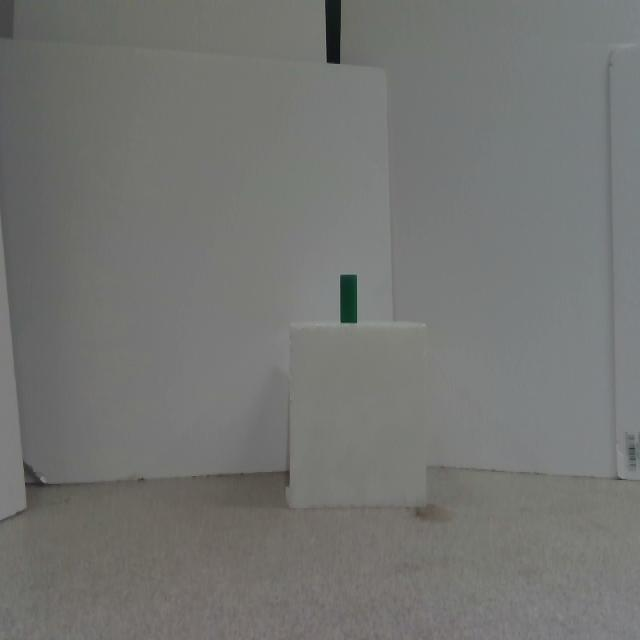green_cylinder: (340, 274, 357, 324)
